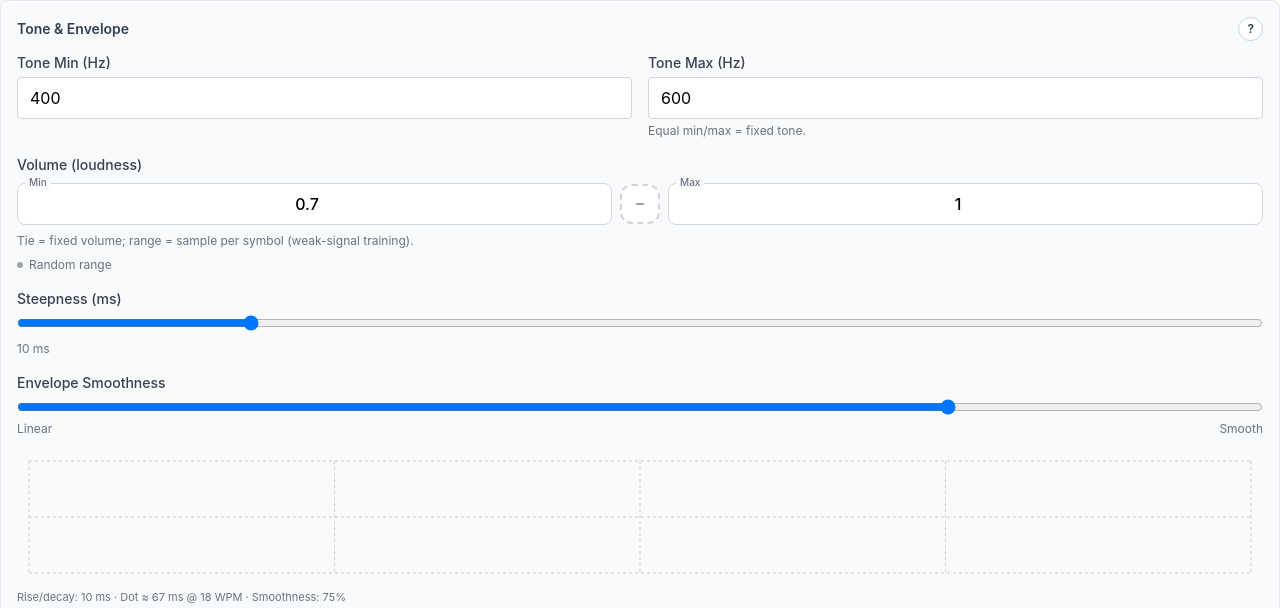
Scenario: ToneEnvelopeSection › toggles help panel
Step 1. Click the button "?" → {"x": 1251, "y": 29}, box [1238,17,1263,41]
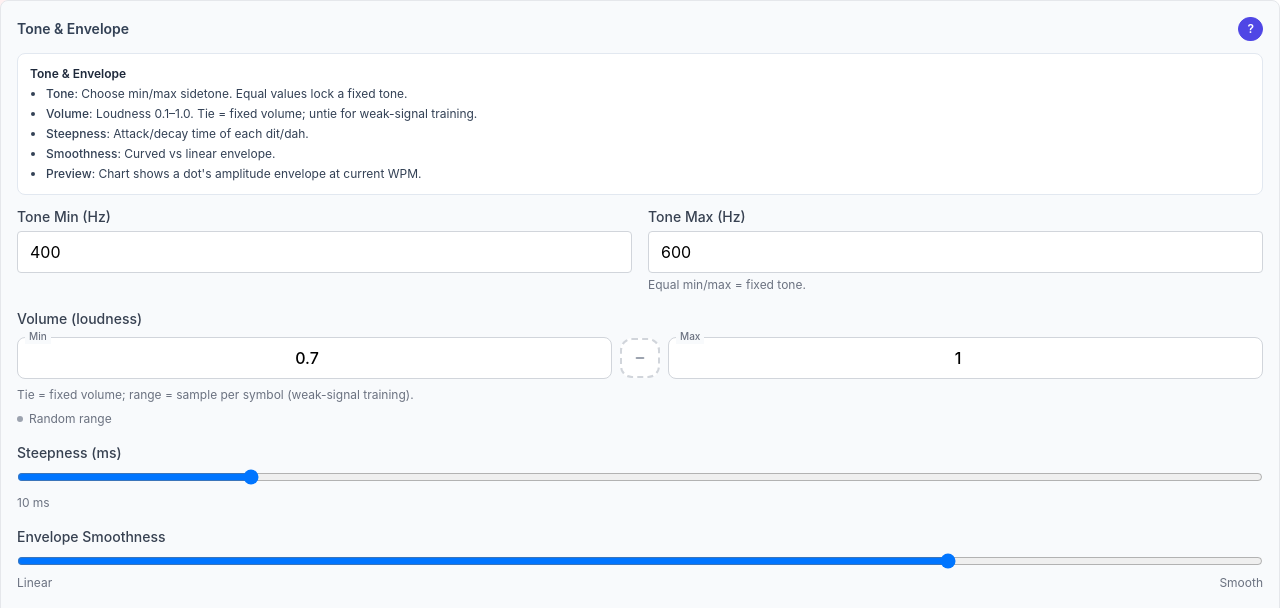
Now the list item "Steepness: Attack/decay time of each dit/dah." is shown, box [46,126,309,141]
